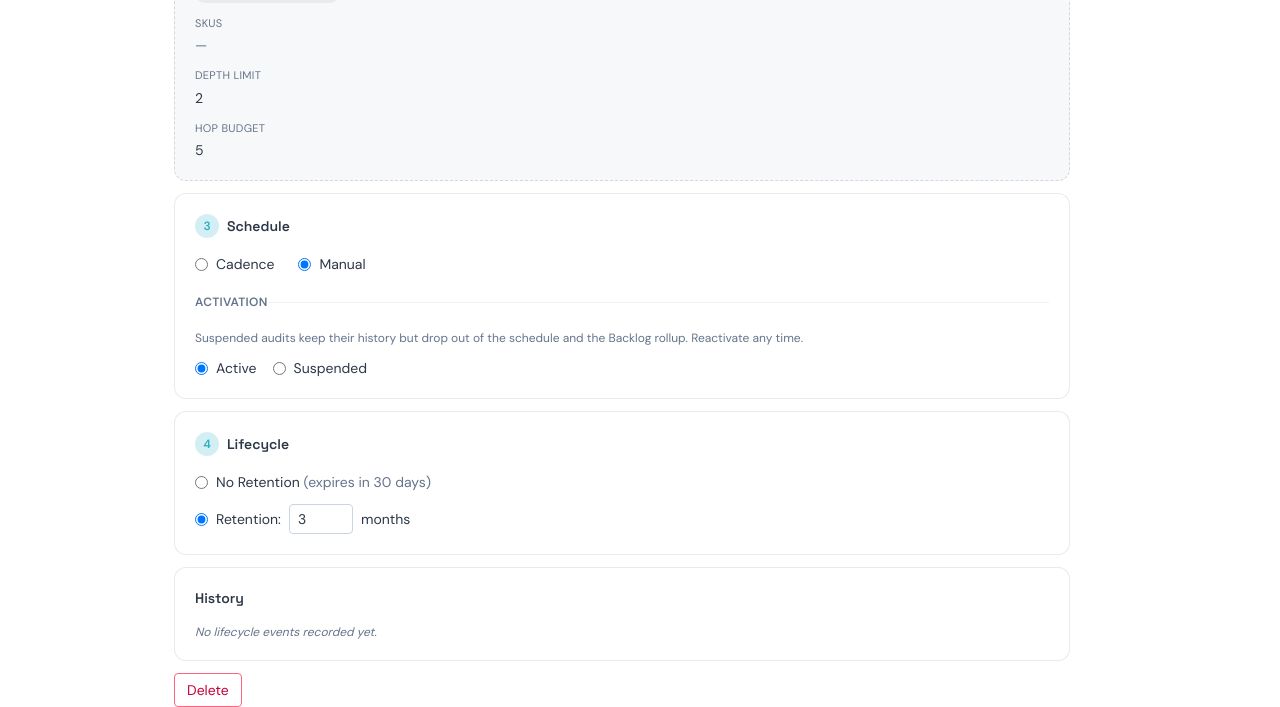
Test case: DefinitionEditor (audit) › Cancel closes the dialog and sends nothing
(page scrolled)
Click the button "Delete" at (208, 690), box x1=174 y1=673 x2=242 y2=706
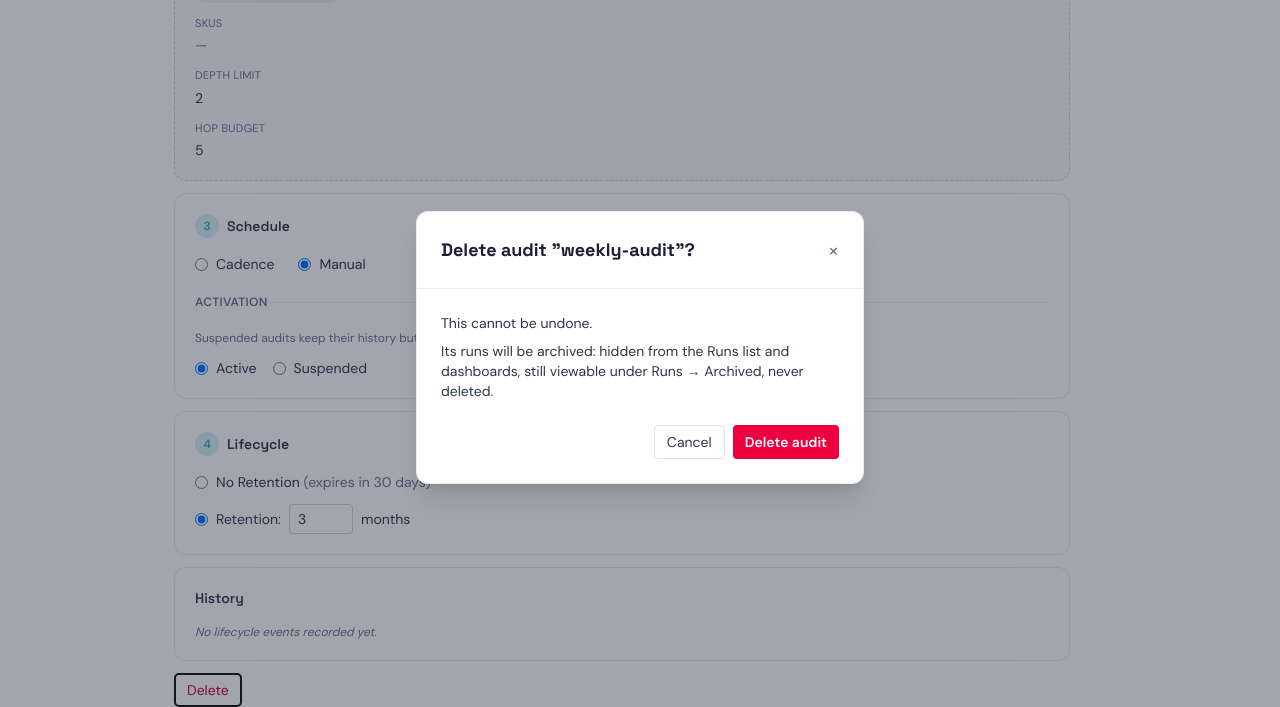
Click the button "Cancel" at (689, 442), box x1=654 y1=424 x2=725 y2=458
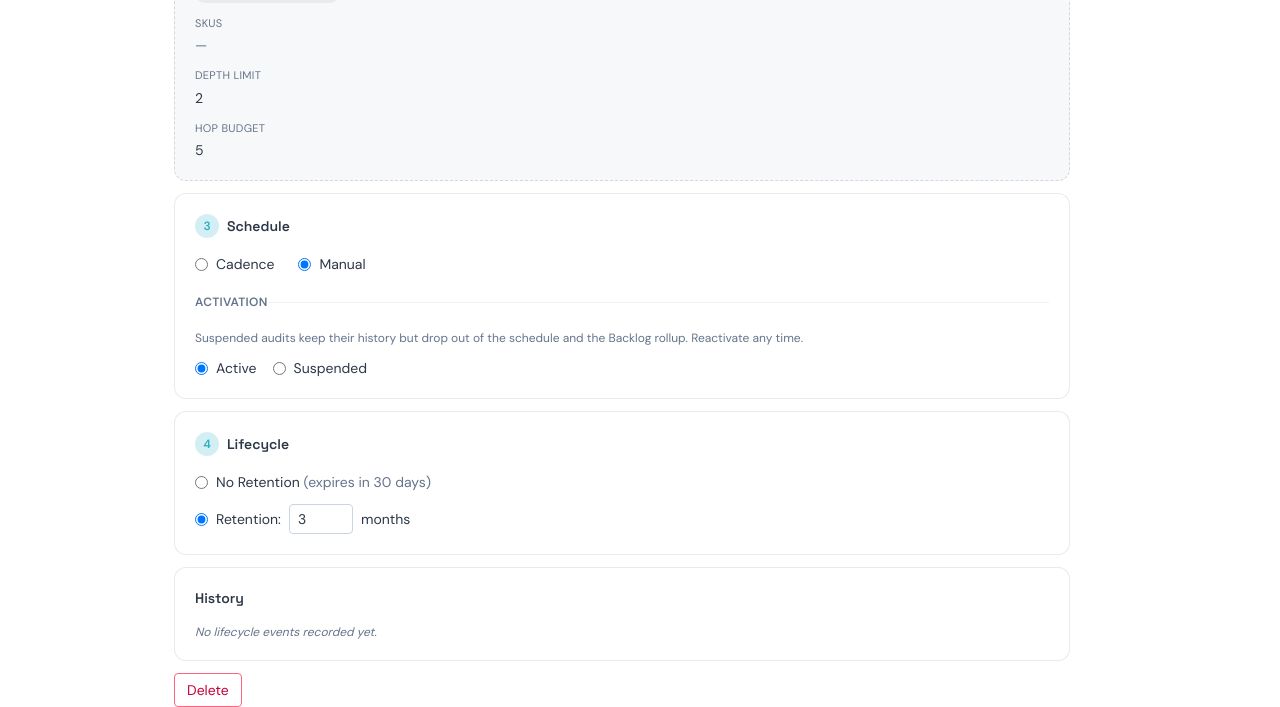
Expected: the dialog is gone
